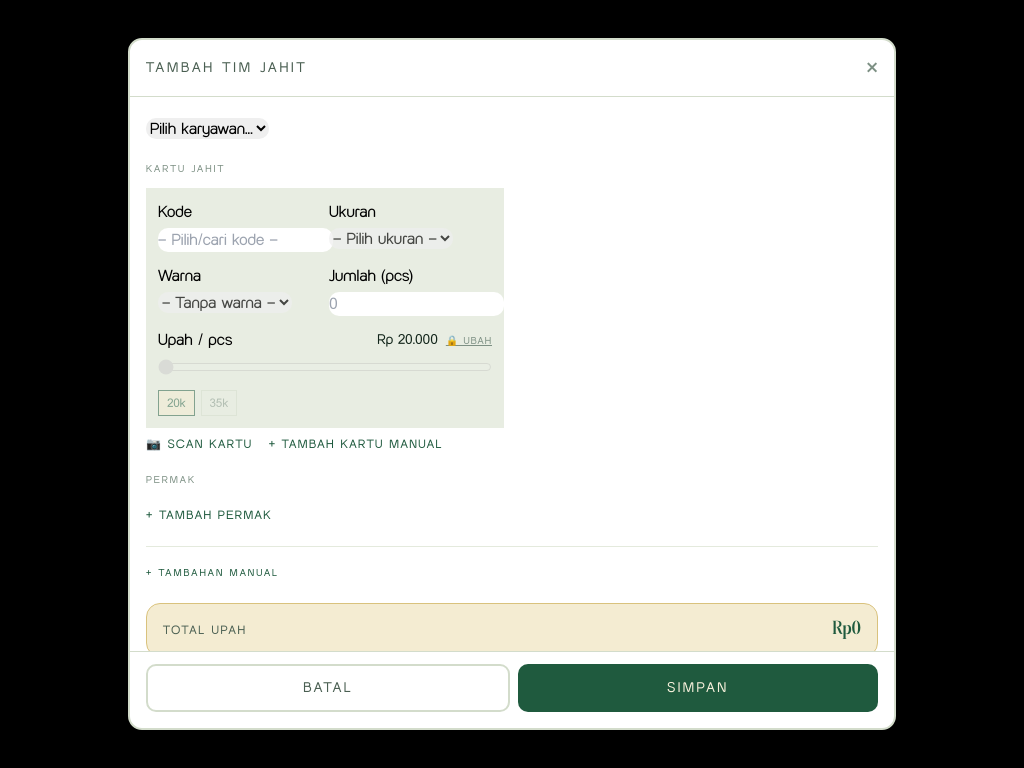
JahitForm — permak interactions › adds permak row on + Tambah permak
Expected: the field with placeholder "Deskripsi permak" is not shown
Click the button "+ Tambah permak": [209, 515] box [146,507,272,523]
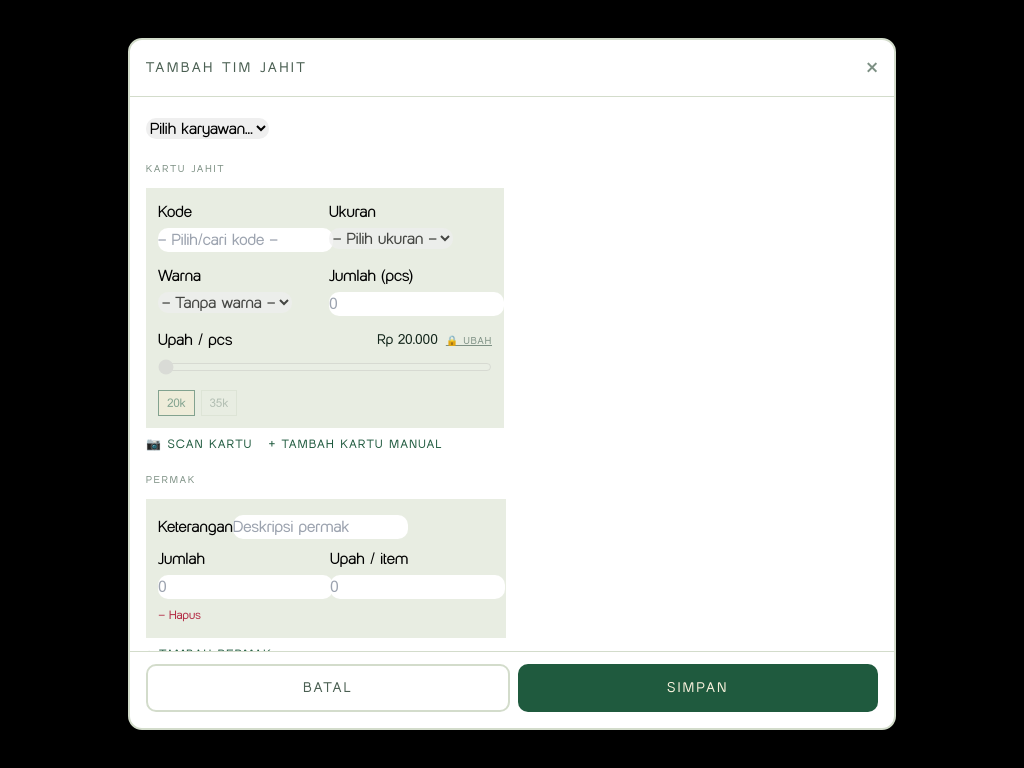
Expected: the field with placeholder "Deskripsi permak" is shown, [233,515,408,539]
